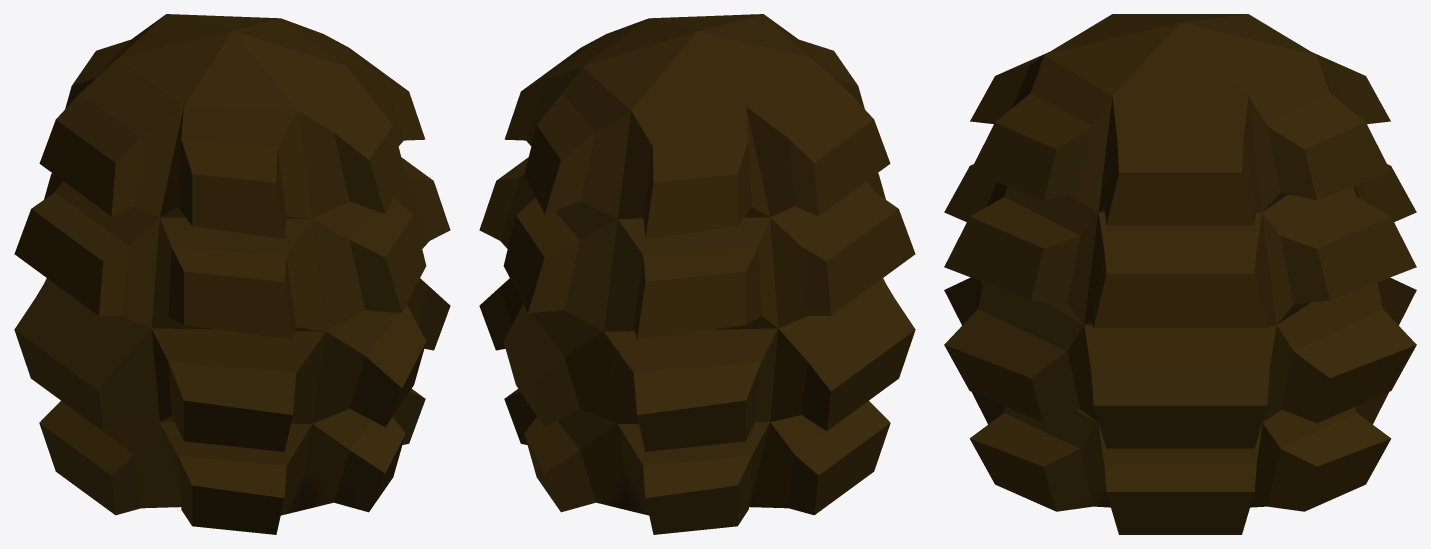
Rendered from M_pineCone.fbx.
3 views of the same model, side by side, from view 1: azimuth 30°, elevation 25°; view 2: azimuth 150°, elevation 25°; view 3: azimuth 270°, elevation 25° (orthographic). The views are drawn at different scales.
Visible parts, largest first — view 1: M_pineCone; view 2: M_pineCone; view 3: M_pineCone.
Boxes of the visible parts, x1,y1,x2,y2 form: M_pineCone: (14, 14, 450, 534); M_pineCone: (479, 14, 915, 534); M_pineCone: (944, 14, 1416, 534).
Size of the model in its own units: 21.51 by 26.82 by 24.36.
Materials: 1 (1 with a texture image).
